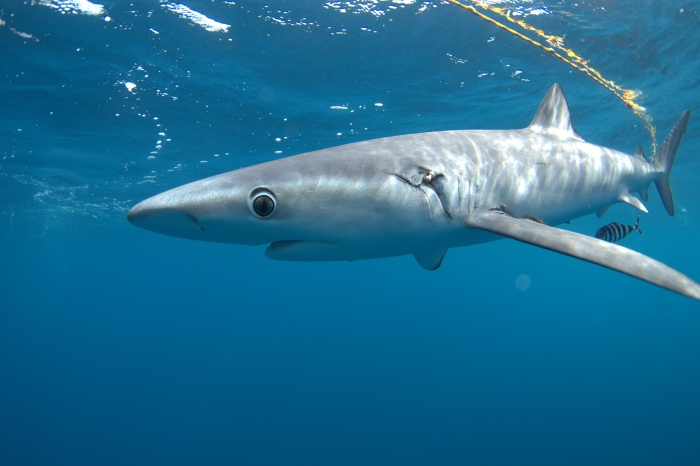Azul: (121, 55, 700, 326)
